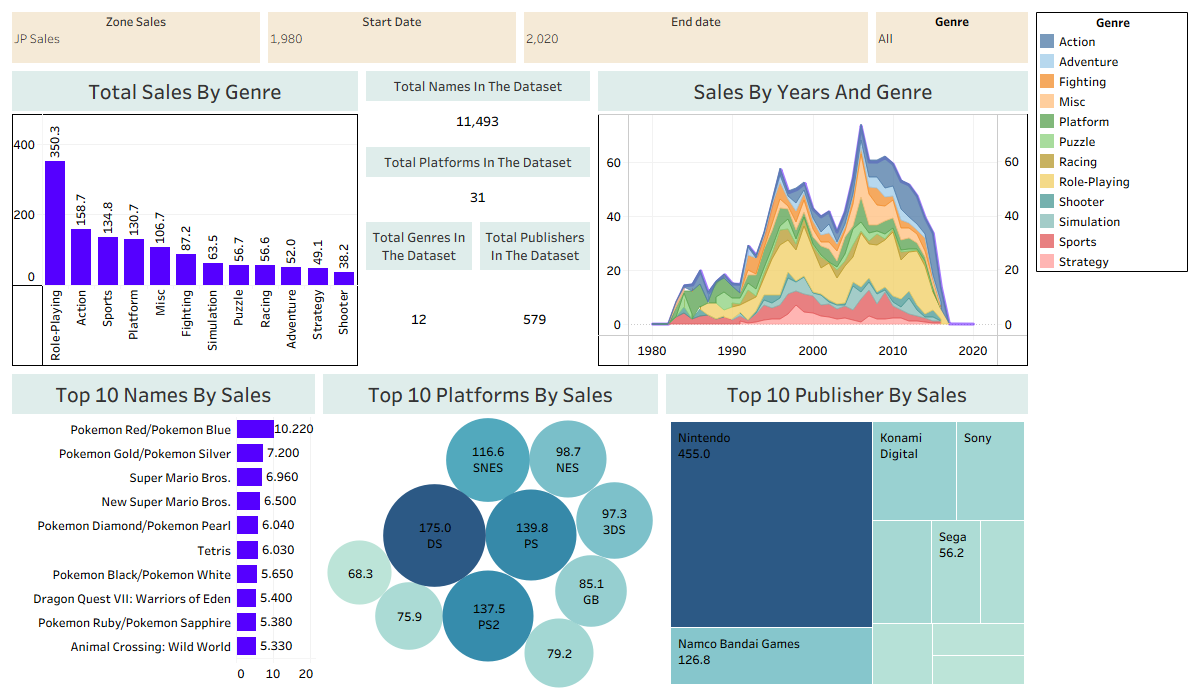

The page's visual inventory and layout, read from the dashboard file:
{"tool":"tableau","page":{"name":"Dashboard 1","canvas":[1200,700],"ordinal":0},"visuals":[{"type":"parameter","param":"[Parameters].[Parameter 1]","box":[8,8,256,59]},{"type":"parameter","param":"[Parameters].[Parameter 2]","box":[264,8,256,59]},{"type":"parameter","param":"[Parameters].[Parameter 3]","box":[520,8,352,59]},{"type":"filter","title":"Sales By Years And Genre","param":"[federated.0mbufkx1nb289n195br5q0zjil7x].[none:Genre:nk]","box":[872,8,160,59]},{"type":"legend","title":"Sales By Years And Genre","param":"[federated.0mbufkx1nb289n195br5q0zjil7x].[none:Genre:nk]","box":[1032,8,160,268]},{"type":"worksheet","title":"Total Sales By Genre","mark":"Automatic","rows":["Calculation_738308890777354240"],"cols":["Genre"],"box":[8,67,354,303]},{"type":"worksheet","title":"Total Names In The Dataset","mark":"Automatic","box":[362,67,232,75.8]},{"type":"worksheet","title":"Sales By Years And Genre","mark":"Automatic","rows":["Calculation_738308890777354240","Calculation_738308890777354240"],"cols":["Year"],"box":[594,67,438,303]},{"type":"worksheet","title":"Total Platforms In The Dataset","mark":"Automatic","box":[362,142.8,232,75.7]},{"type":"worksheet","title":"Total Genres In The Dataset","mark":"Automatic","box":[362,218.5,114,151.5]},{"type":"worksheet","title":"Total Publishers In The Dataset","mark":"Automatic","box":[476,218.5,118,151.5]},{"type":"worksheet","title":"Top 10 Names By Sales","mark":"Automatic","rows":["Name"],"cols":["Calculation_738308890777354240"],"box":[8,370,311,322]},{"type":"worksheet","title":"Top 10 Platforms By Sales","mark":"Circle","box":[319,370,343,322]},{"type":"worksheet","title":"Top 10 Publisher By Sales","mark":"Automatic","box":[662,370,370,322]}]}

Visuals, with their boxes in screenshot pixels (x1, y1, x2, y2), scaled from the page's 1200x700 canvas onto the 1200x700 screenshot:
parameter: (8, 8, 264, 67)
parameter: (264, 8, 520, 67)
parameter: (520, 8, 872, 67)
"Sales By Years And Genre" filter: (872, 8, 1032, 67)
"Sales By Years And Genre" legend: (1032, 8, 1192, 276)
"Total Sales By Genre" worksheet: (8, 67, 362, 370)
"Total Names In The Dataset" worksheet: (362, 67, 594, 143)
"Sales By Years And Genre" worksheet: (594, 67, 1032, 370)
"Total Platforms In The Dataset" worksheet: (362, 143, 594, 218)
"Total Genres In The Dataset" worksheet: (362, 218, 476, 370)
"Total Publishers In The Dataset" worksheet: (476, 218, 594, 370)
"Top 10 Names By Sales" worksheet: (8, 370, 319, 692)
"Top 10 Platforms By Sales" worksheet (Circle marks): (319, 370, 662, 692)
"Top 10 Publisher By Sales" worksheet: (662, 370, 1032, 692)
